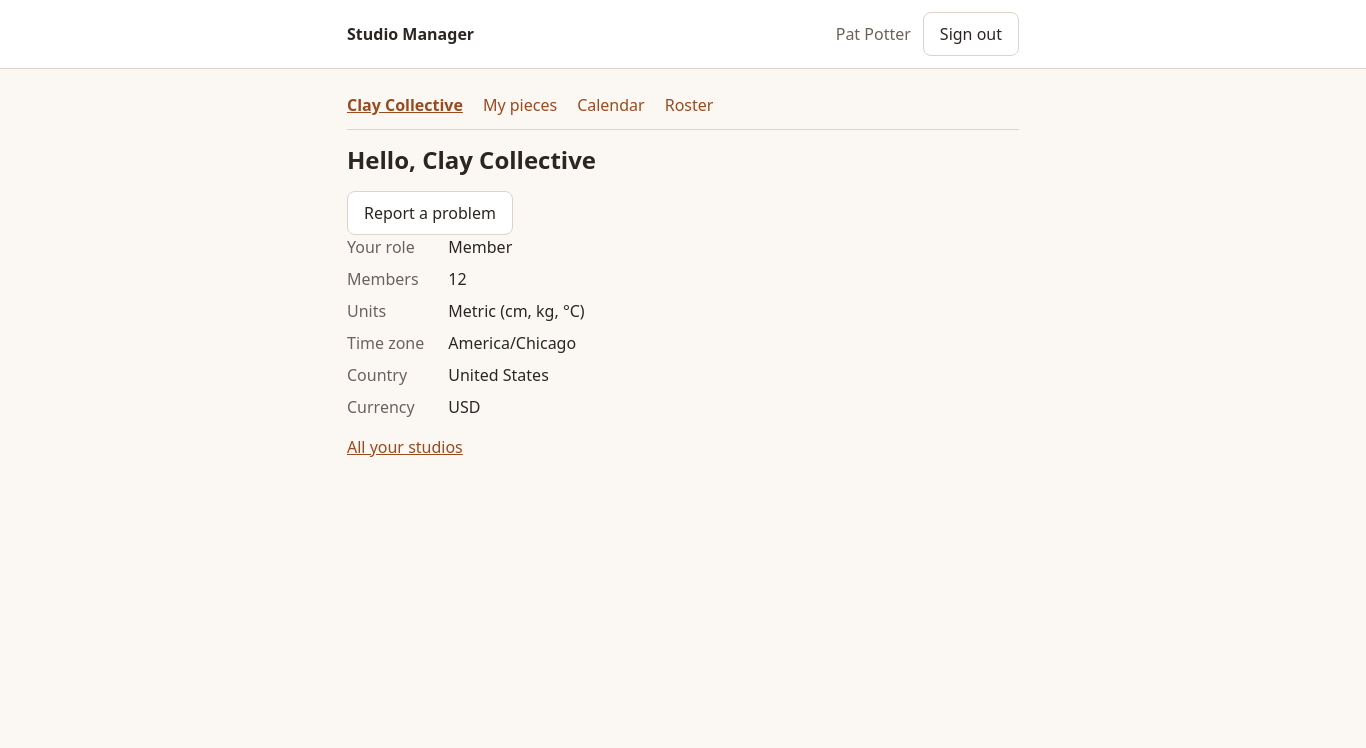
problem reports › lets a member report a problem from the studio’s home page
Click the button "Report a problem" at point(430, 213), box top-left (347, 191), bottom-right (513, 235)
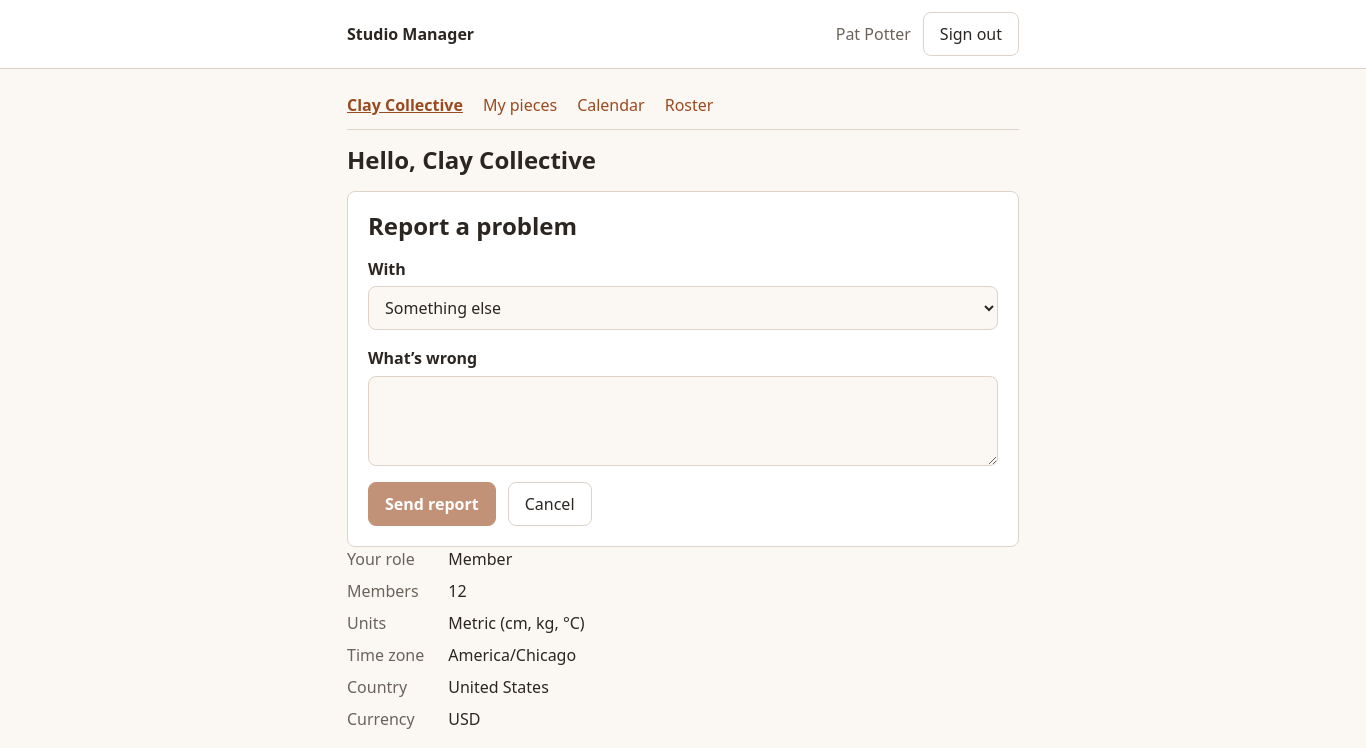
Select "Wheel 3" in the dropdown labelled "With" at point(683, 308), box top-left (368, 286), bottom-right (998, 330)
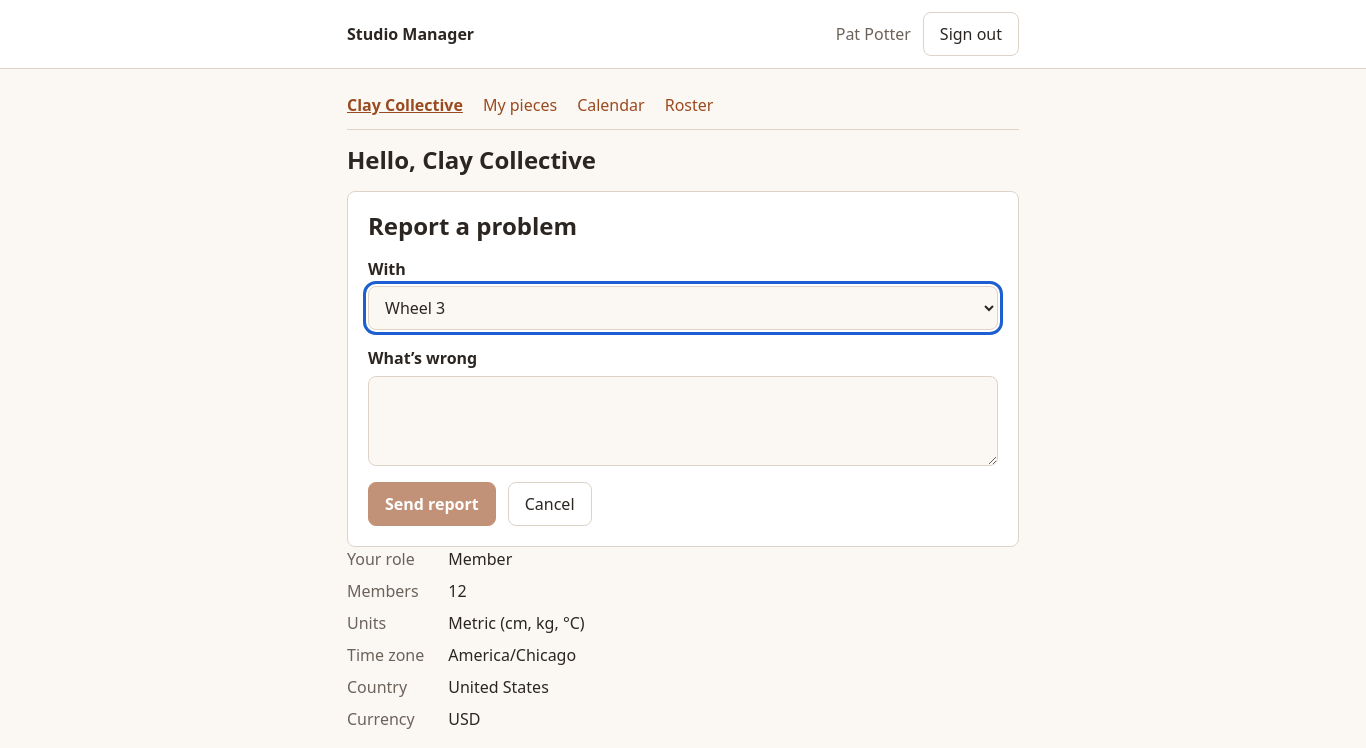
Type "Grinds when it speeds up" into the text box labelled "What’s wrong" at point(683, 421), box top-left (368, 376), bottom-right (998, 466)
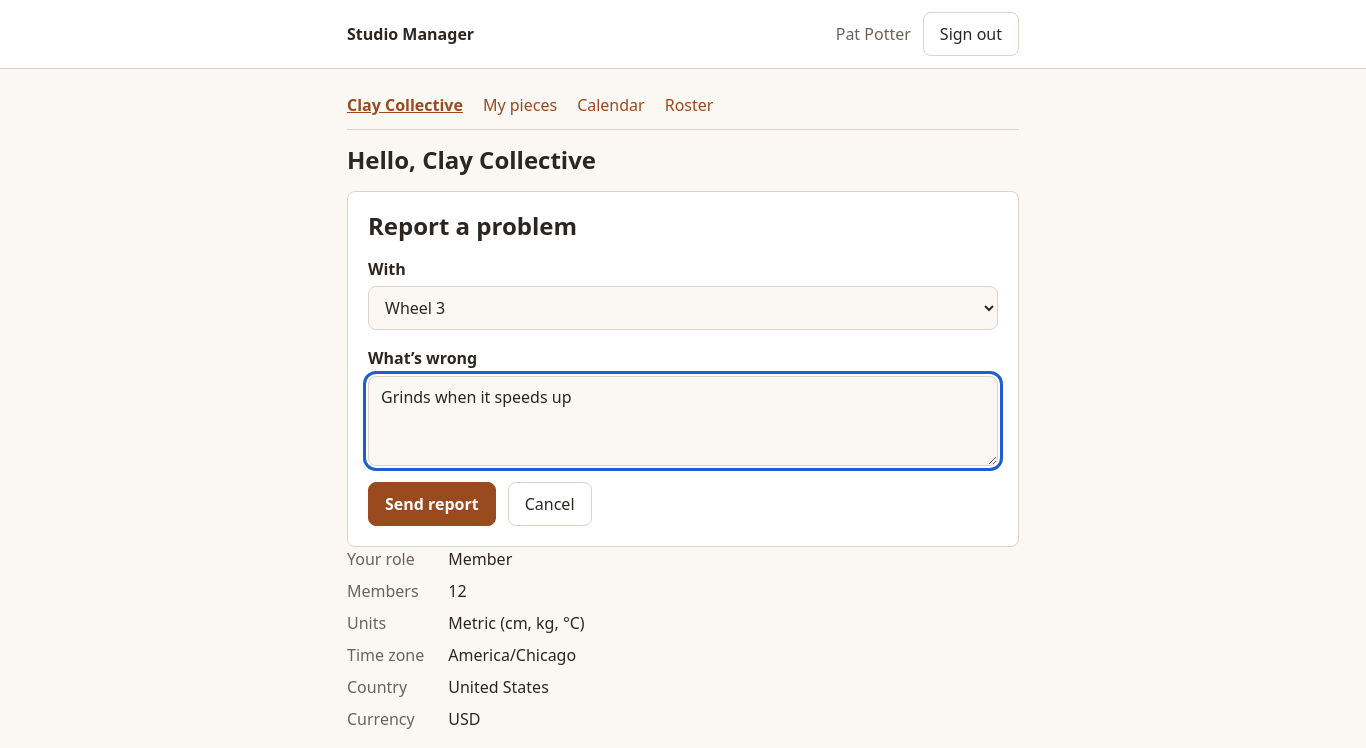
Click the button "Send report" at point(432, 504), box top-left (368, 482), bottom-right (496, 526)
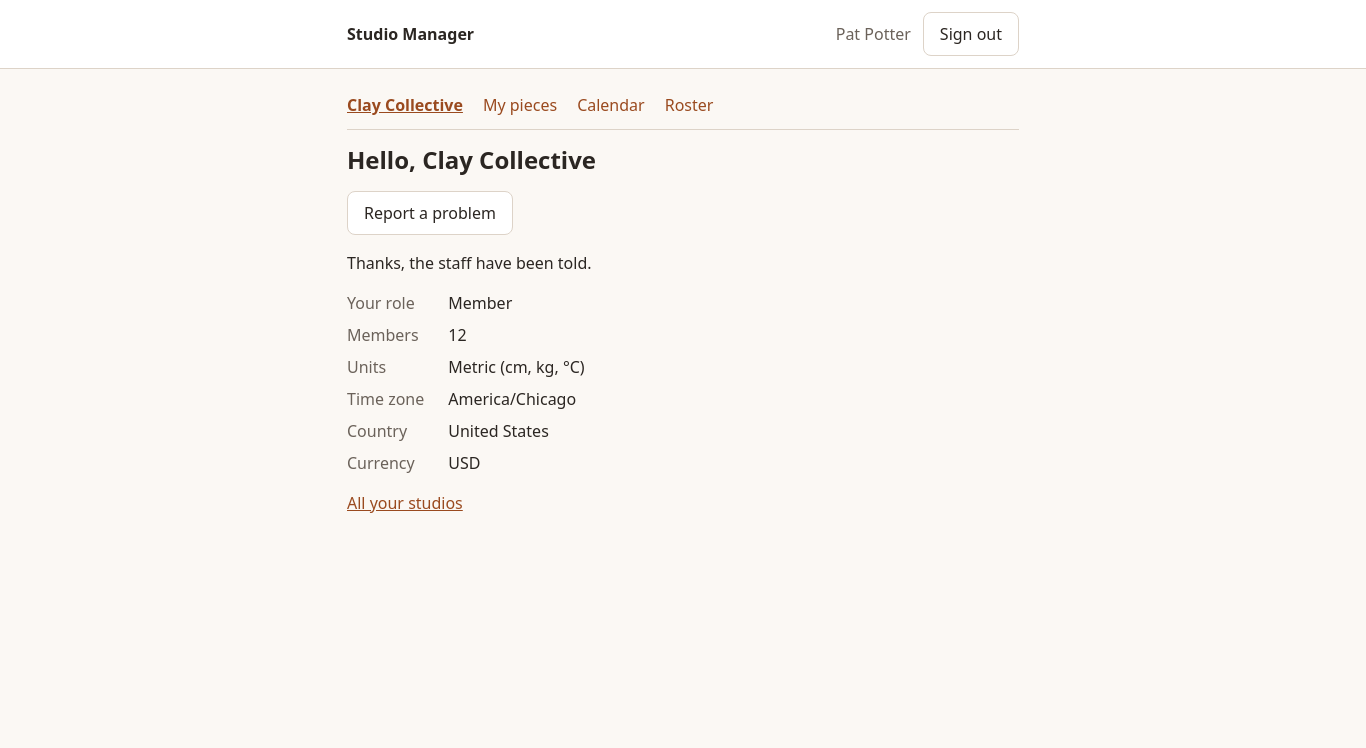
Now the text "Thanks, the staff have been told." is shown, box top-left (347, 252), bottom-right (592, 274)
